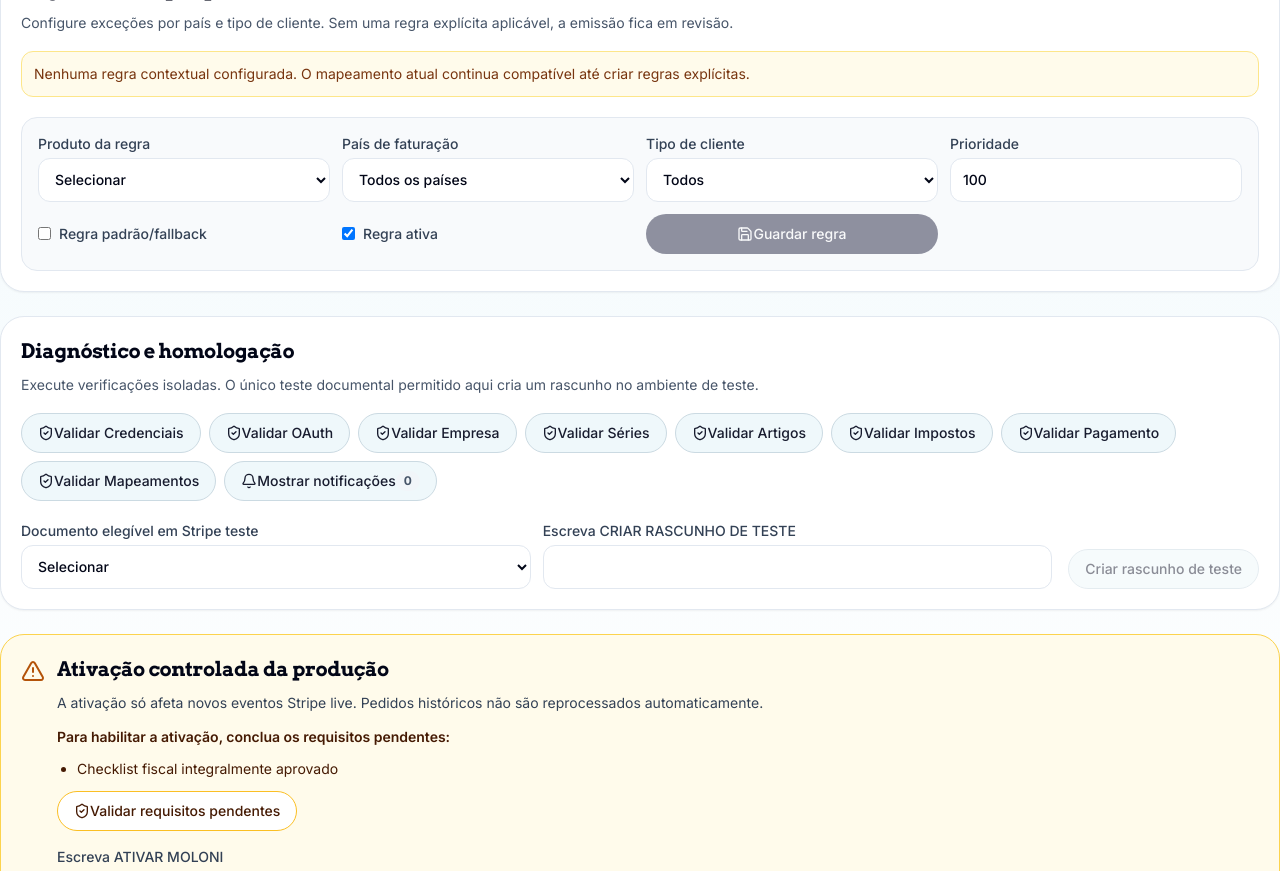
AdminMoloni › shows the validation progress and result in the diagnostic card
(page scrolled)
Click the button "Validar Credenciais": (111, 432) [21,412,200,452]
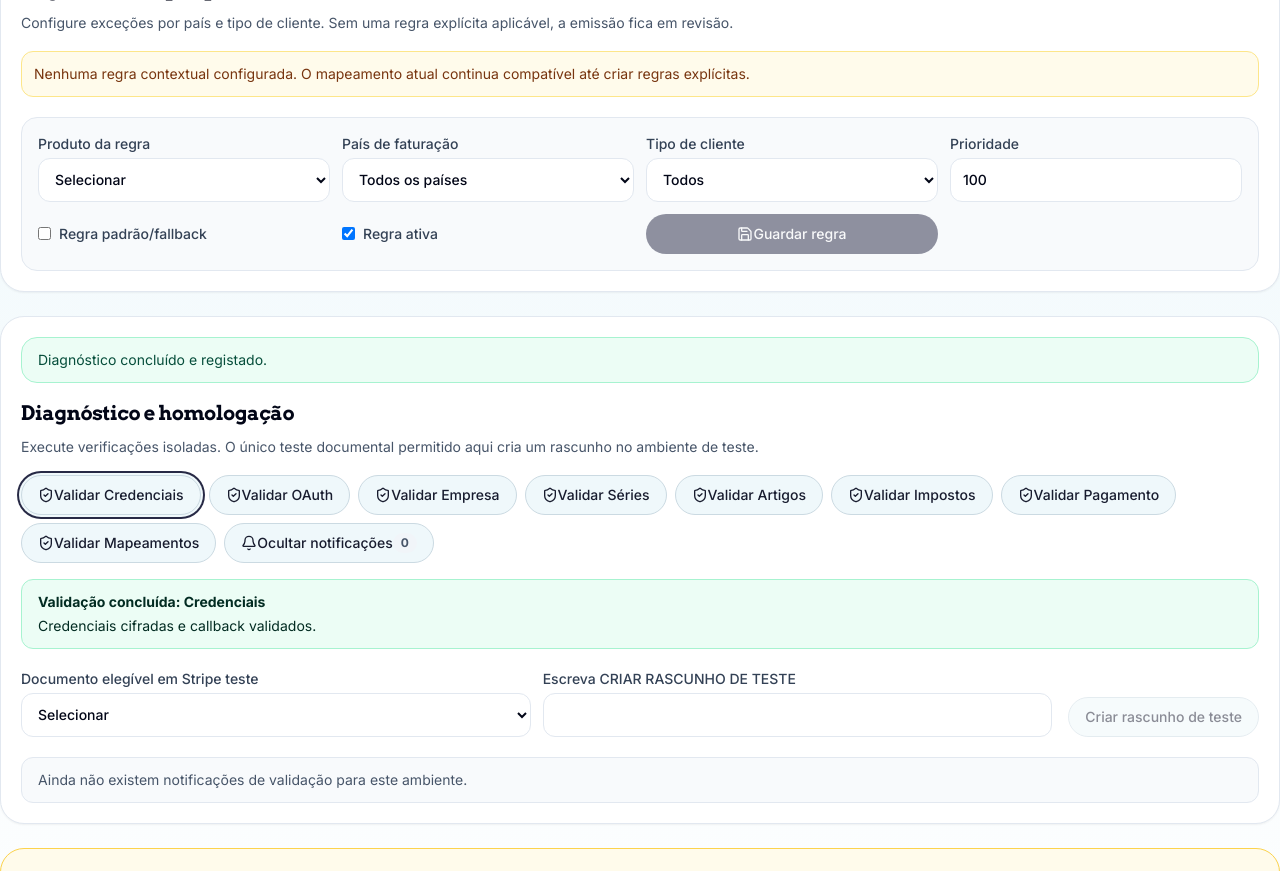
Now the message shows "Validação concluída: Credenciais", box [21,578,1259,648]
Now the message shows "Credenciais cifradas e callback validados.", box [38,616,316,634]
Now the button "Ocultar notificações 0" is expanded, box [224,522,434,562]
